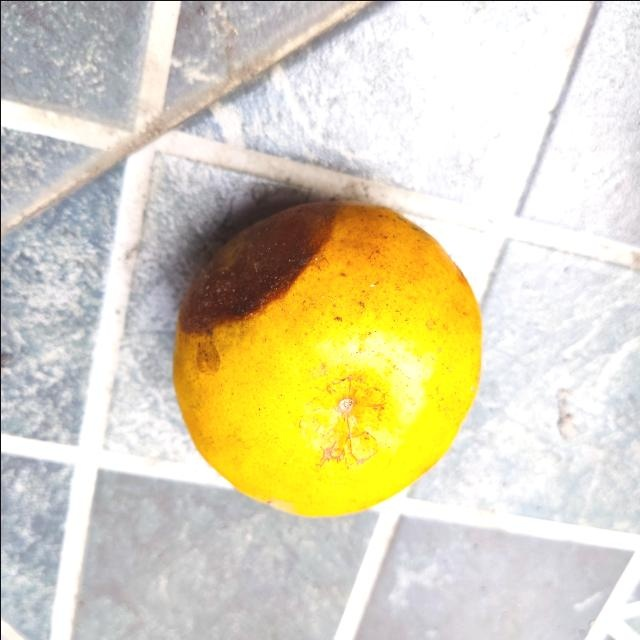agrume: (168, 196, 488, 520)
